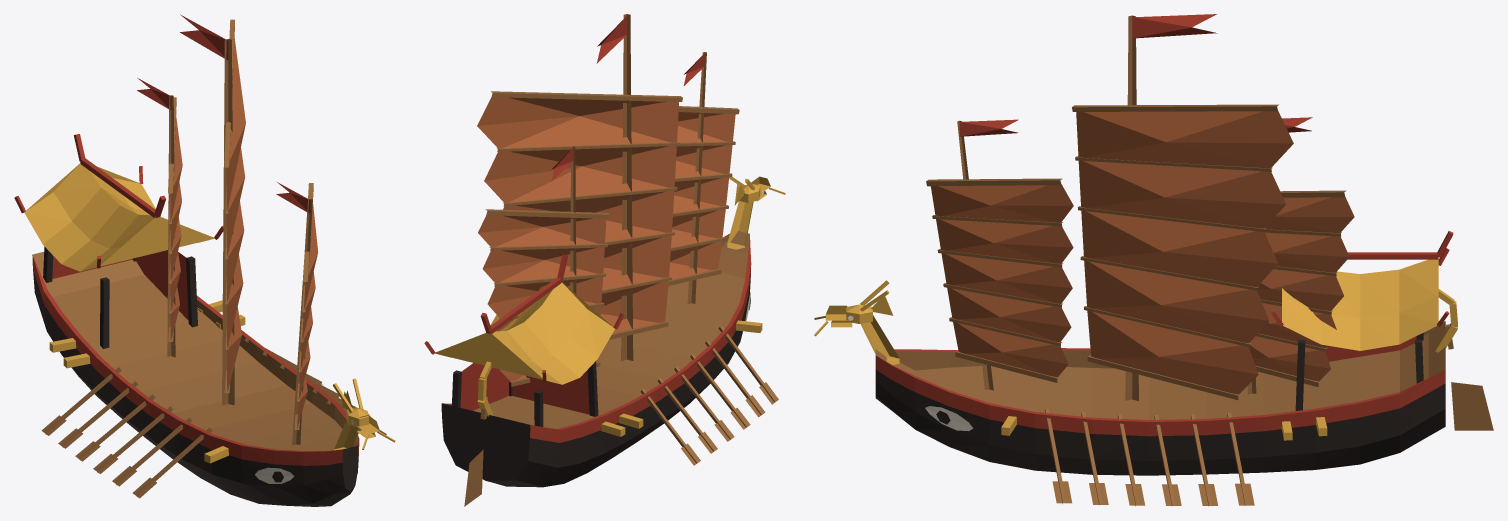
File: ship_frigate.glb
3 views of the same model, side by side, from view 1: azimuth 30°, elevation 25°; view 2: azimuth 150°, elevation 25°; view 3: azimuth 270°, elevation 25° (orthographic). The views are drawn at different scales.
Visible parts, largest first — view 1: ship_frigate; view 2: ship_frigate; view 3: ship_frigate.
Boxes of the visible parts, box(x1,y1,x2,y2) form: ship_frigate: box(14, 14, 395, 506); ship_frigate: box(424, 14, 785, 506); ship_frigate: box(814, 14, 1493, 506).
Size of the model in its own units: 8.92 by 13.71 by 19.08.
